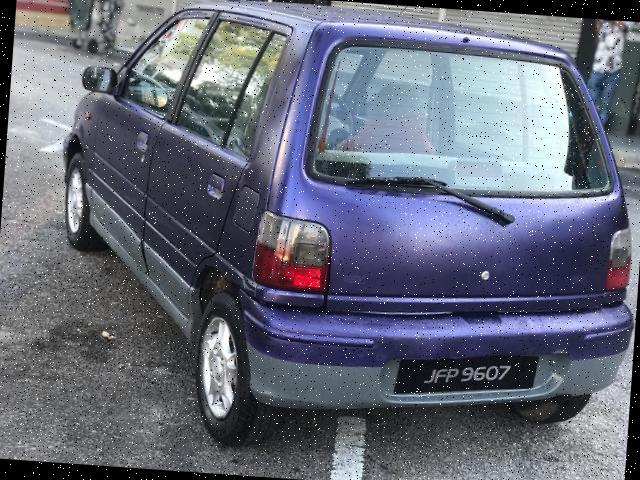License_Plate: (412, 357, 537, 400)
car: (32, 1, 640, 468)
